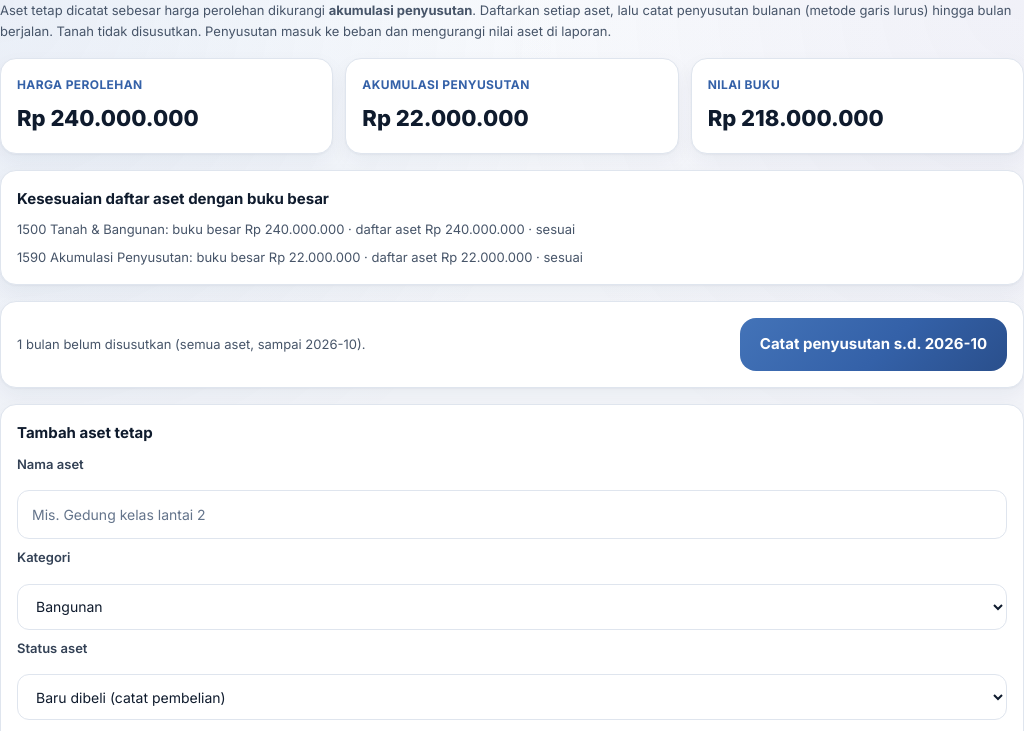
FixedAssets › tells how many months still wait for depreciation and posts them up to the current month
Check: the text "1 bulan belum disusutkan (semua aset, sampai 2026-10)." is shown, box [17,336,366,352]
Click the button "Catat penyusutan s.d. 2026-10" at (873, 345), box [740,318,1007,371]
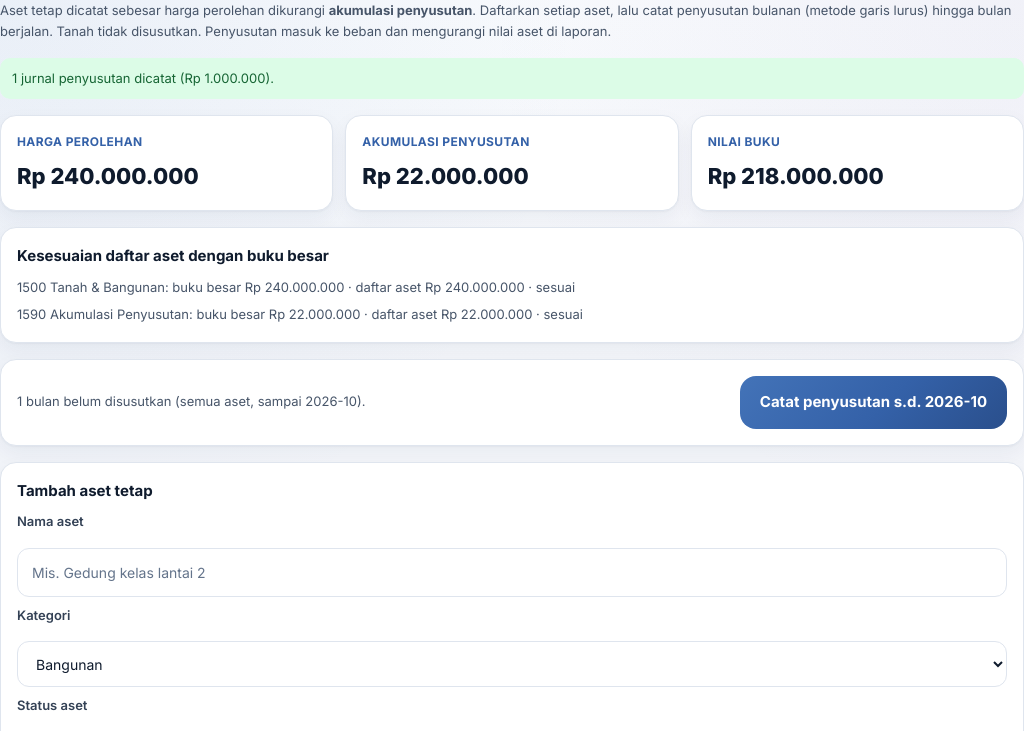
Check: the message shows "1 jurnal penyusutan", box [12,70,274,86]
